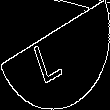L_NW: (37, 26, 73, 84)
